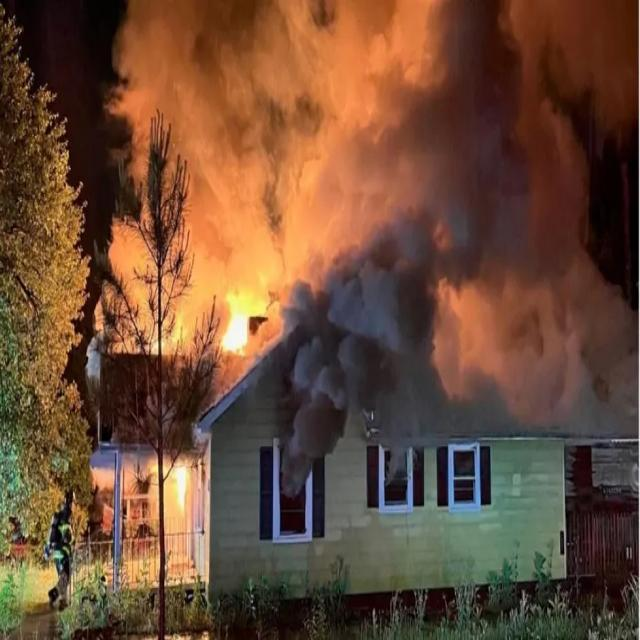Fire: (216, 304, 260, 370), (168, 458, 198, 525)
Smoke: (114, 3, 640, 457)
